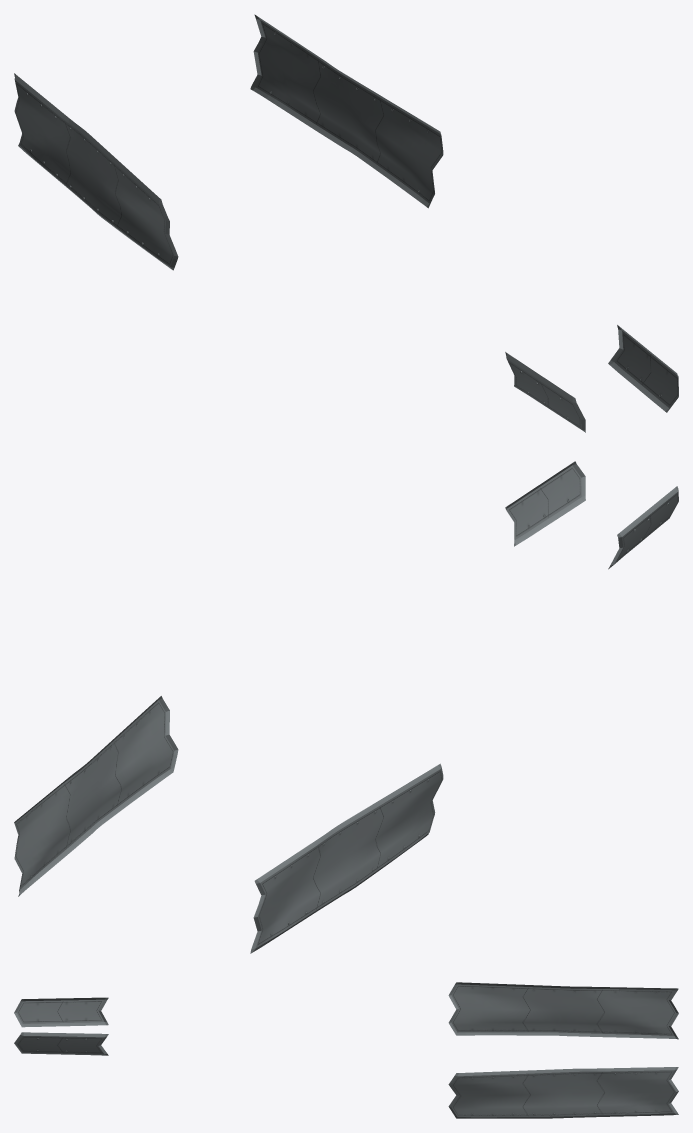
The model's file is ACO_ArmorKit_FA18E.fbx.
The picture shows the model from 3 angles, top to bottom: view 1: azimuth 30°, elevation 25°; view 2: azimuth 150°, elevation 25°; view 3: azimuth 270°, elevation 25°; orthographic projection. The views are drawn at different scales.
Parts seen in each view (by area): view 1: ACO_ArmorKit_FA18E; view 2: ACO_ArmorKit_FA18E; view 3: ACO_ArmorKit_FA18E.
Part boxes in pixels (<box>): ACO_ArmorKit_FA18E: <box>14,14,678,432</box>; ACO_ArmorKit_FA18E: <box>14,461,678,953</box>; ACO_ArmorKit_FA18E: <box>14,982,678,1118</box>.
Size of the model in its own units: 2.8 by 0.8696 by 8.54.
1 material, 1 textured.
